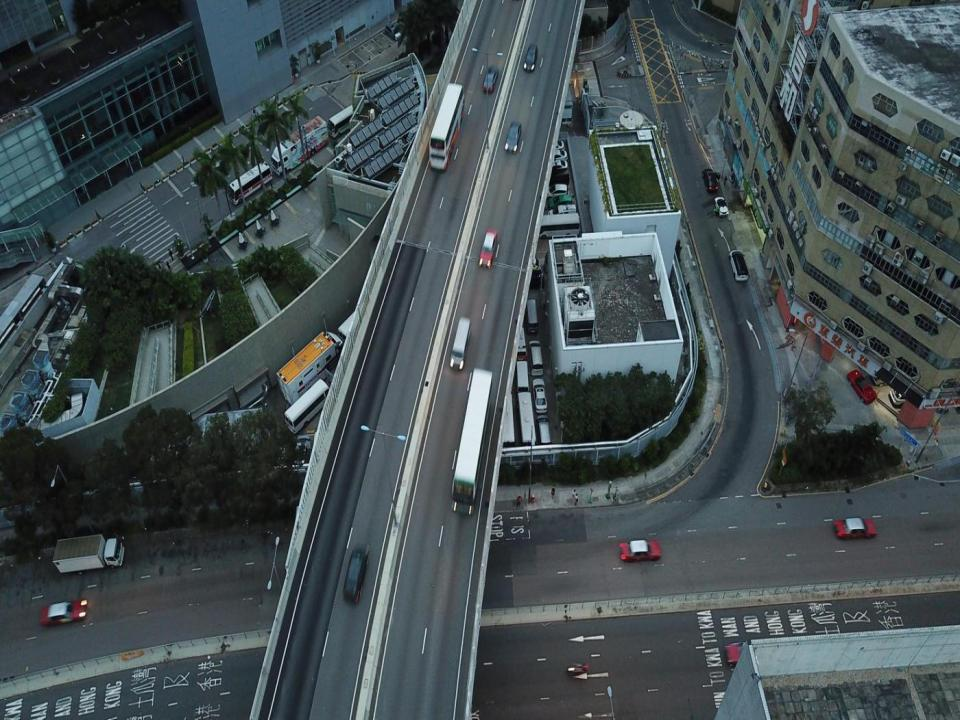bus: (454, 369, 494, 512), (427, 80, 464, 174), (283, 380, 333, 433), (228, 162, 272, 204), (493, 389, 521, 449), (529, 211, 583, 241), (516, 390, 538, 446), (510, 310, 528, 354), (516, 360, 527, 392)
car: (339, 543, 371, 605), (38, 601, 90, 628), (833, 516, 879, 542), (846, 368, 878, 404), (619, 538, 661, 562), (539, 167, 572, 190), (526, 339, 546, 376), (531, 376, 549, 415), (729, 250, 749, 282), (504, 119, 522, 154), (480, 61, 498, 95), (535, 414, 552, 449), (522, 294, 538, 331), (522, 43, 540, 74), (542, 149, 569, 167), (703, 166, 719, 196), (540, 157, 570, 173), (541, 137, 566, 154), (548, 203, 578, 216), (547, 193, 573, 207), (715, 192, 728, 216)
truck: (273, 327, 347, 393), (266, 114, 330, 176), (52, 534, 124, 574)
van: (448, 316, 472, 369), (478, 226, 498, 268)
